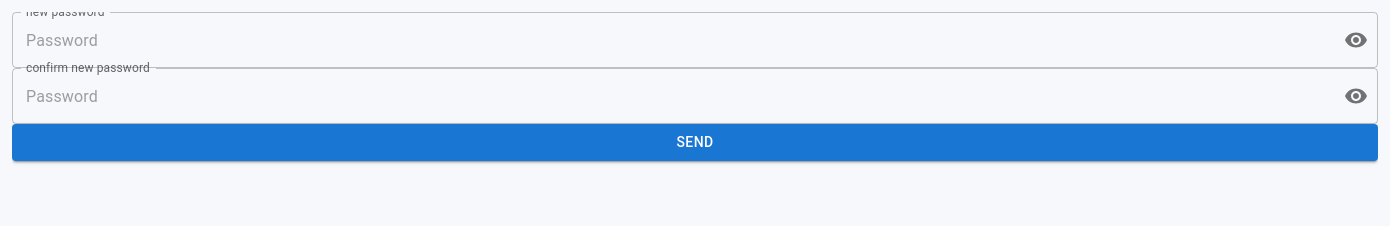
Test: ResetPasswordForm › validates the form
Type "pass" into the password field labelled "new password".
click(670, 40); type("pass")  # box [12,12,1328,68]
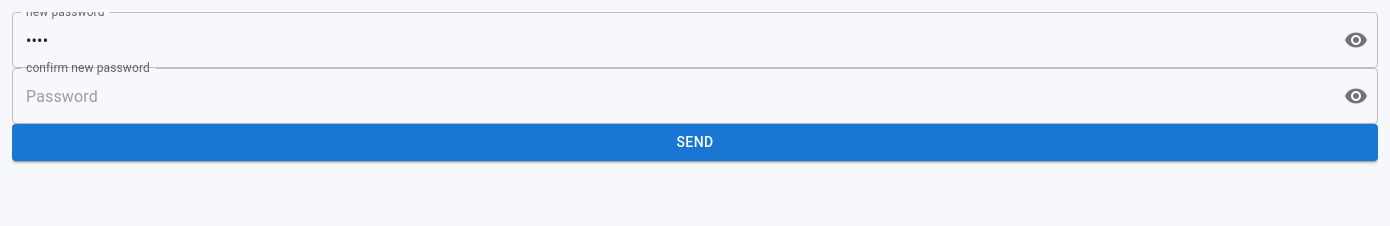
Type "pass" into the password field labelled "confirm new password".
click(670, 96); type("pass")  # box [12,68,1328,124]
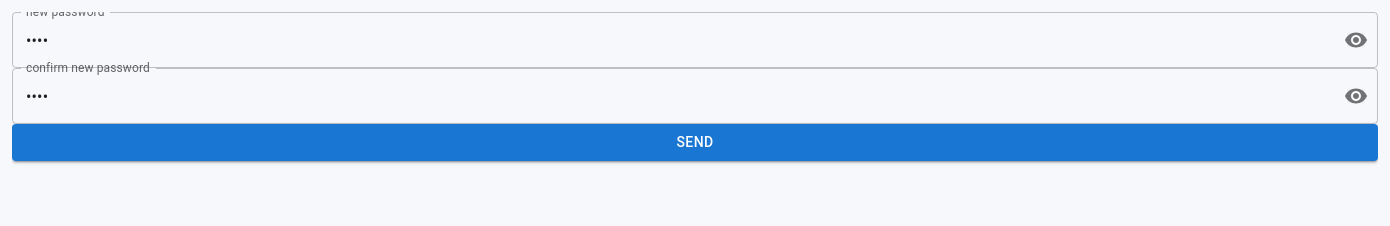
Expected: the text "Password must be at least 6 characters" is not shown
Click the button "Send".
click(695, 142)  # box [12,124,1378,160]
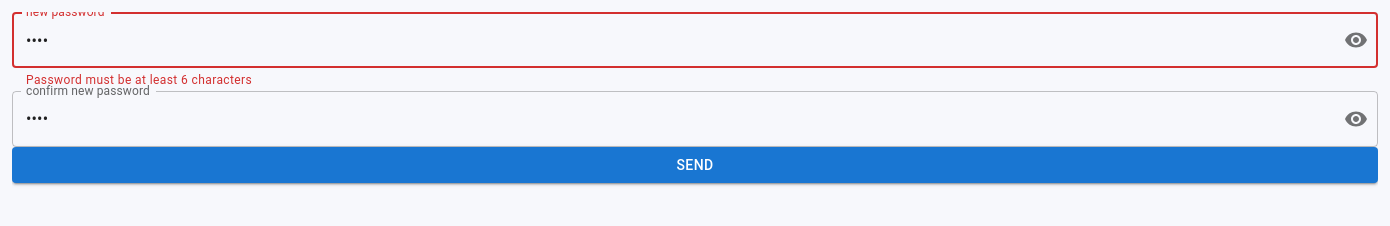
Result: the text "Password must be at least 6 characters" is shown at [26,73,252,87]
Clear the password field labelled "new password" at [670, 40], box [12,12,1328,68]
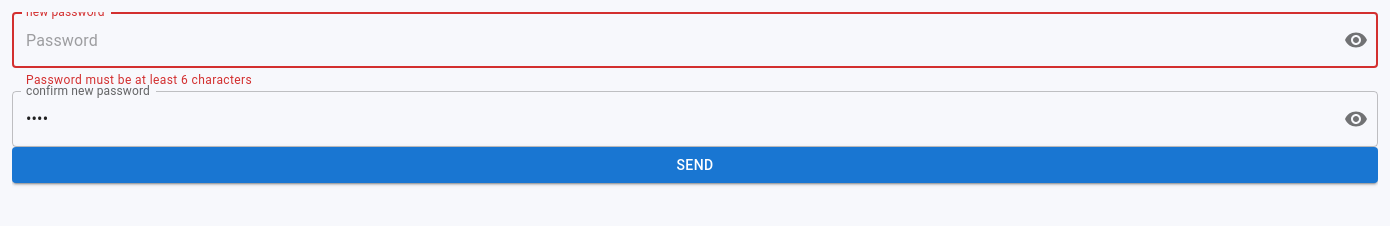
Clear the password field labelled "confirm new password" at [670, 119], box [12,91,1328,147]
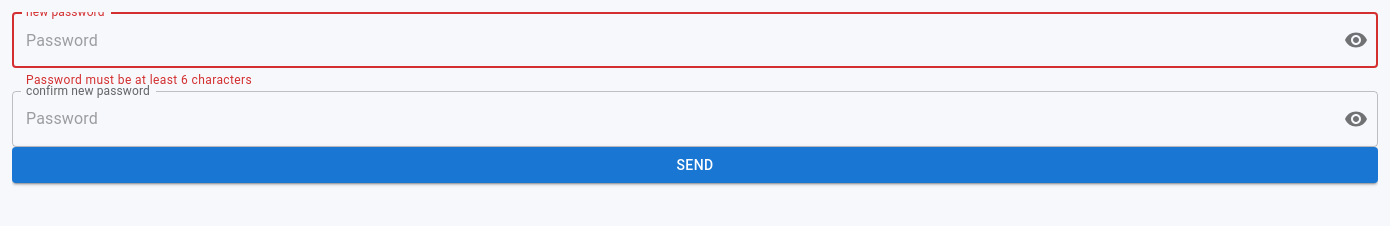
Expected: the text "Password is required" is not shown
Click the button "Send".
click(695, 165)  # box [12,147,1378,183]
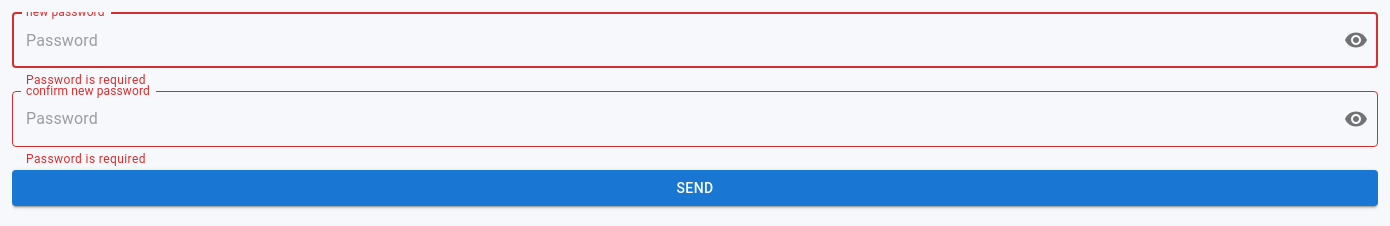
Result: the 1st text "Password is required" is shown at [26,73,146,87]
Result: the text "Password is required" below "confirm new password" is shown at [26,152,146,166]
